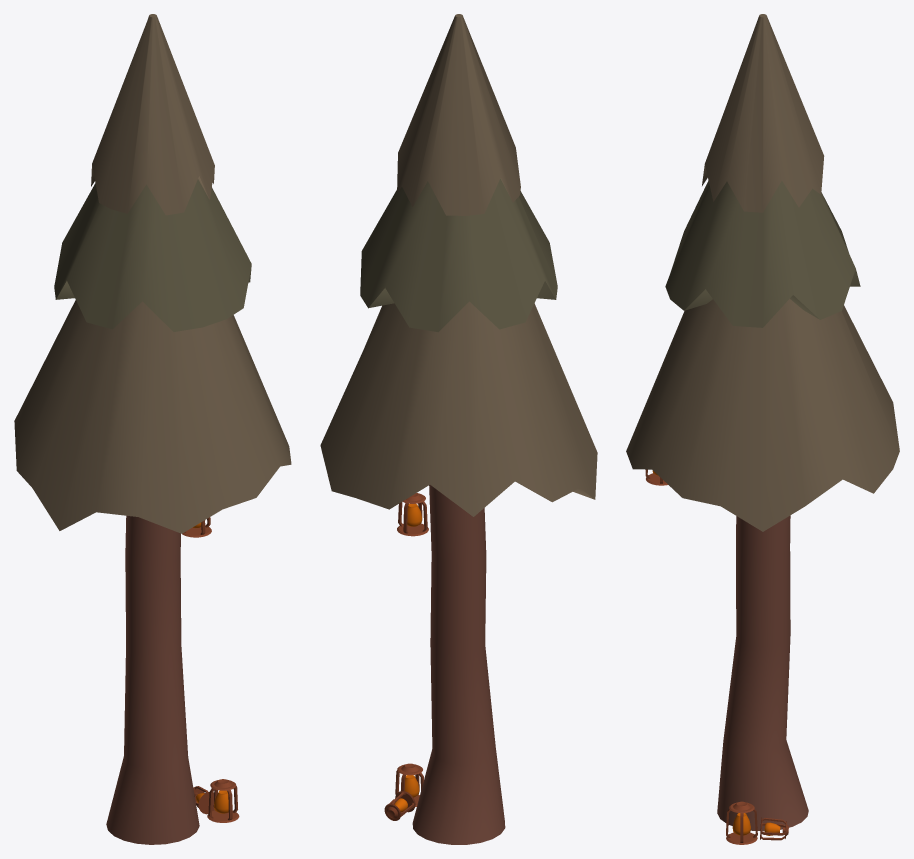
The model's file is Lowpoly_Tree_Lamps_ver3.fbx.
The picture shows the model from 3 angles, left to right: view 1: azimuth 30°, elevation 25°; view 2: azimuth 150°, elevation 25°; view 3: azimuth 270°, elevation 25°; orthographic projection.
Visible parts, largest first — view 1: Lowpoly_Tree_Lamps_ver3; view 2: Lowpoly_Tree_Lamps_ver3; view 3: Lowpoly_Tree_Lamps_ver3.
Part boxes in pixels (left/top/right/bottom): Lowpoly_Tree_Lamps_ver3: left=14, top=14, right=291, bottom=844; Lowpoly_Tree_Lamps_ver3: left=320, top=14, right=597, bottom=844; Lowpoly_Tree_Lamps_ver3: left=626, top=14, right=899, bottom=844.
Size of the model in its own units: 6.35 by 20.4 by 6.34.
